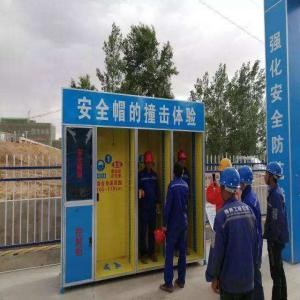blue: (220, 167, 243, 201), (264, 161, 284, 189), (238, 164, 255, 194)
none: (173, 163, 185, 181)
red: (143, 150, 155, 173), (178, 150, 189, 168)
